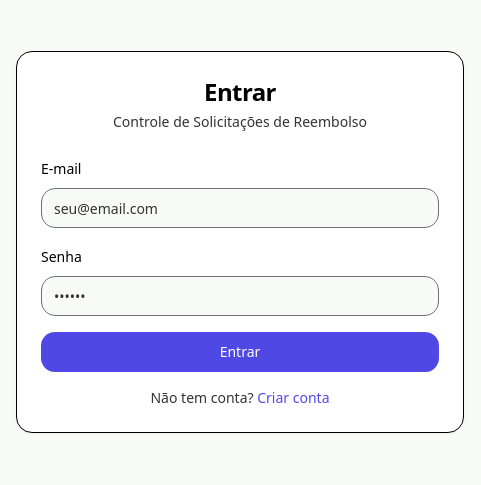
LoginPage › shows generic error message on server failure
Type "user@test.com" into the field labelled "E-mail" at [240, 208], box [41,188,439,228]
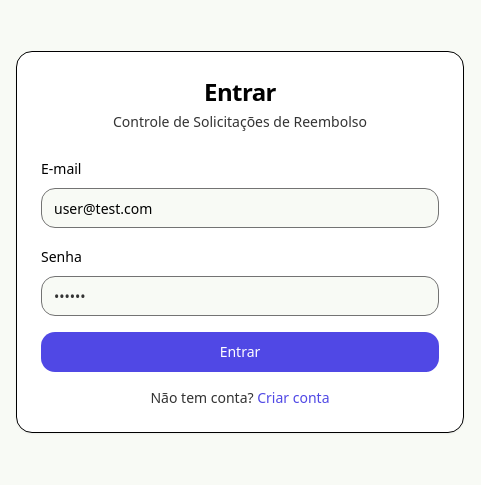
Type "senha123" into the password field labelled "Senha" at [240, 296], box [41,276,439,316]
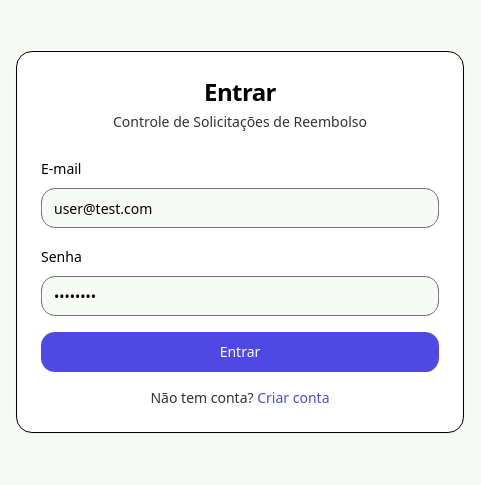
Click the button "Entrar" at [240, 352], box [41,332,439,372]
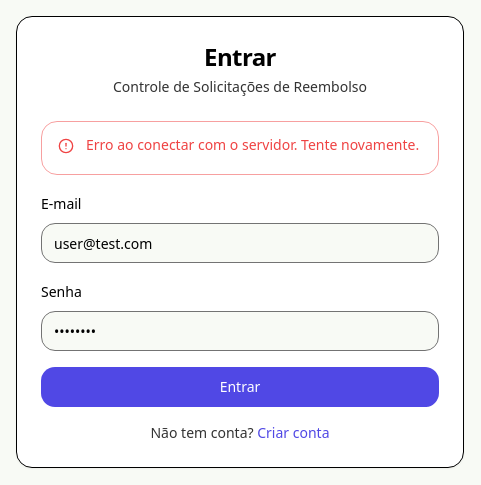
Result: the text "Erro ao conectar com o servidor. Tente novamente." is shown at [58,135,422,155]
